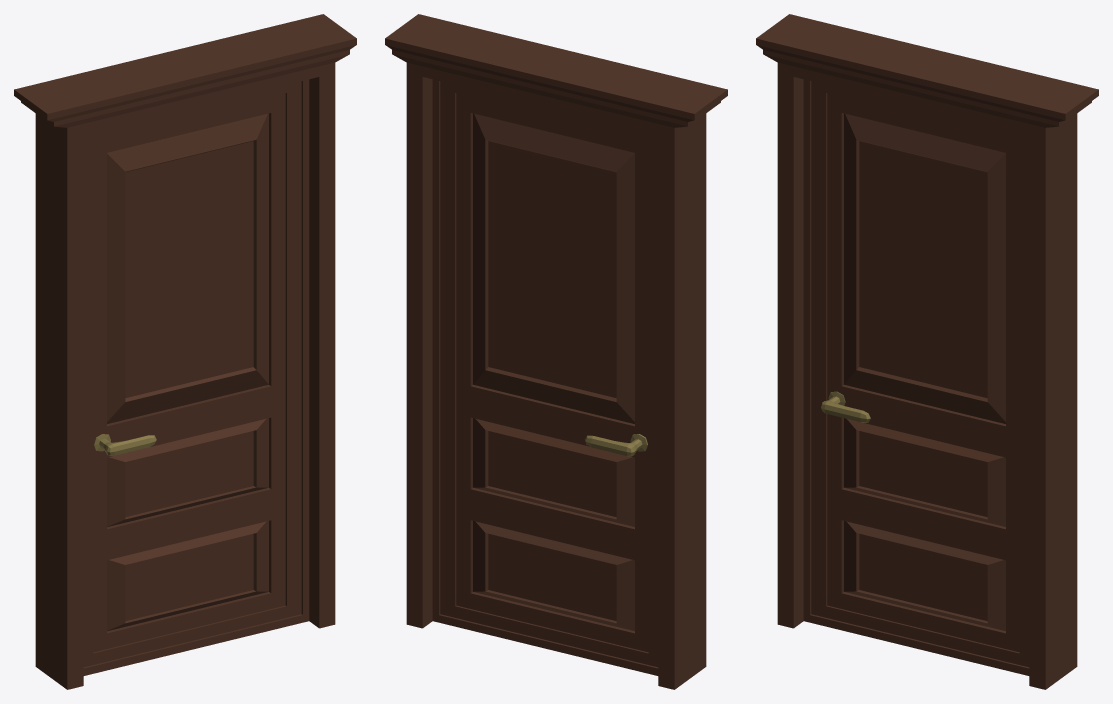
3 renders of one model, left to right at view 1: azimuth 30°, elevation 25°; view 2: azimuth 150°, elevation 25°; view 3: azimuth 330°, elevation 25°, orthographic.
Parts seen in each view (by area): view 1: Door_Cube.008, DoorFrame_Cube.010, DoorHandle_Cube.009; view 2: Door_Cube.008, DoorFrame_Cube.010, DoorHandle_Cube.009; view 3: Door_Cube.008, DoorFrame_Cube.010, DoorHandle_Cube.009.
Boxes of the visible parts, x1,y1,x2,y2 form: Door_Cube.008: [83, 79, 309, 675]; DoorFrame_Cube.010: [14, 14, 356, 689]; DoorHandle_Cube.009: [94, 434, 156, 455]; Door_Cube.008: [432, 79, 658, 675]; DoorFrame_Cube.010: [385, 14, 727, 689]; DoorHandle_Cube.009: [585, 434, 647, 456]; Door_Cube.008: [803, 79, 1029, 675]; DoorFrame_Cube.010: [756, 14, 1098, 689]; DoorHandle_Cube.009: [821, 391, 870, 422].
Bounding box in the file's own units: 1.75 × 3.14 × 0.3272.
